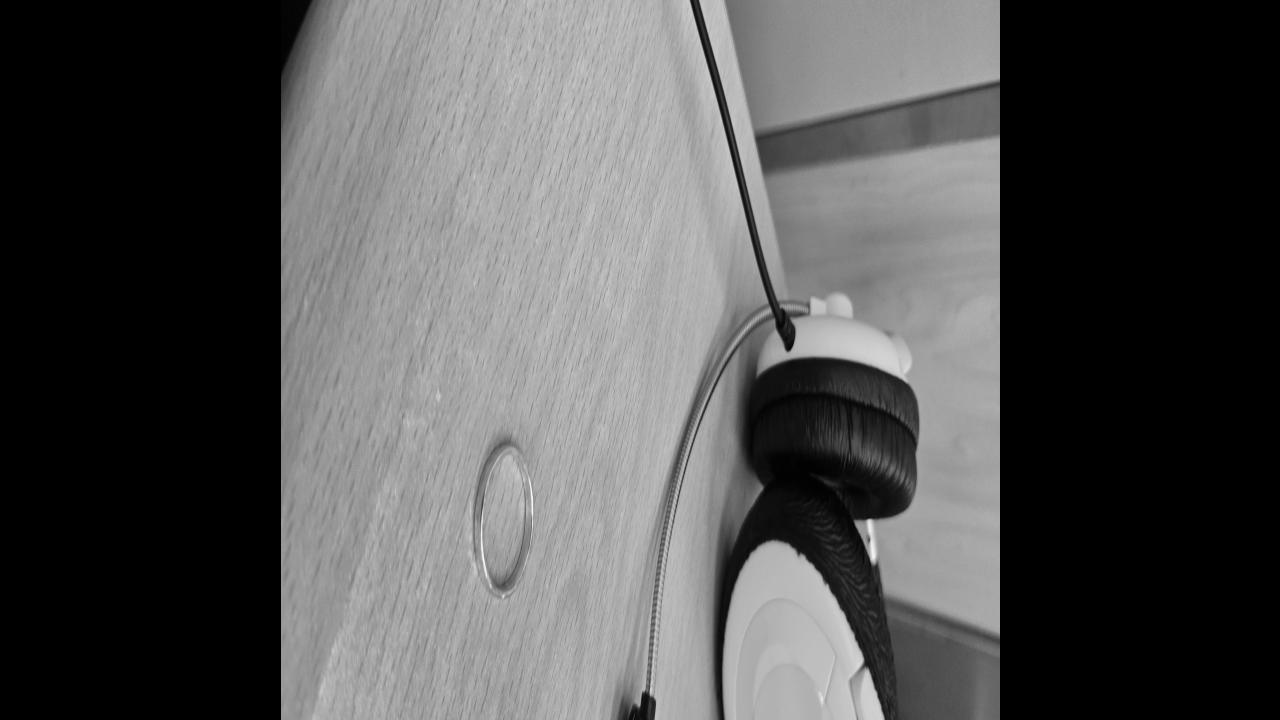ring: (470, 438, 534, 598)
